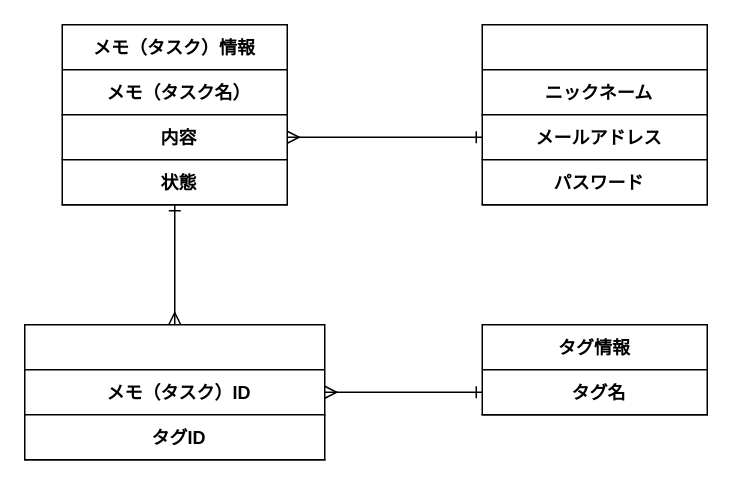
This 732x485 diagram has some shape labels left out. Each missing label, with the box of its shape:
タグ・メモ中間テーブル: (23, 323, 325, 460)
ユーザー情報: (481, 23, 707, 205)
